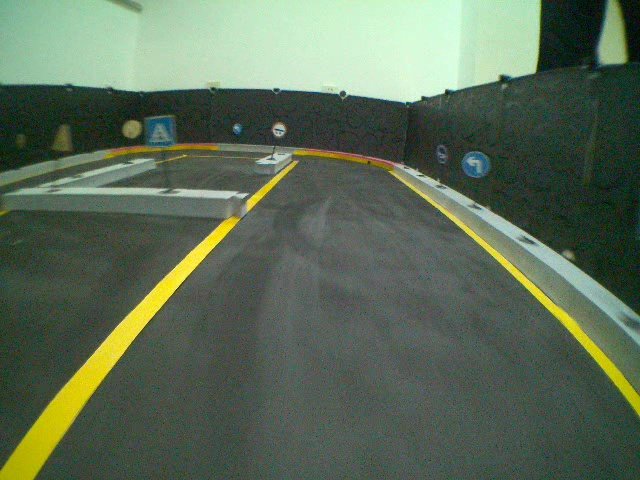Check: (269, 121, 287, 139)
crossing: (145, 115, 174, 147)
horn: (435, 144, 449, 165)
turn: (462, 150, 490, 180)
